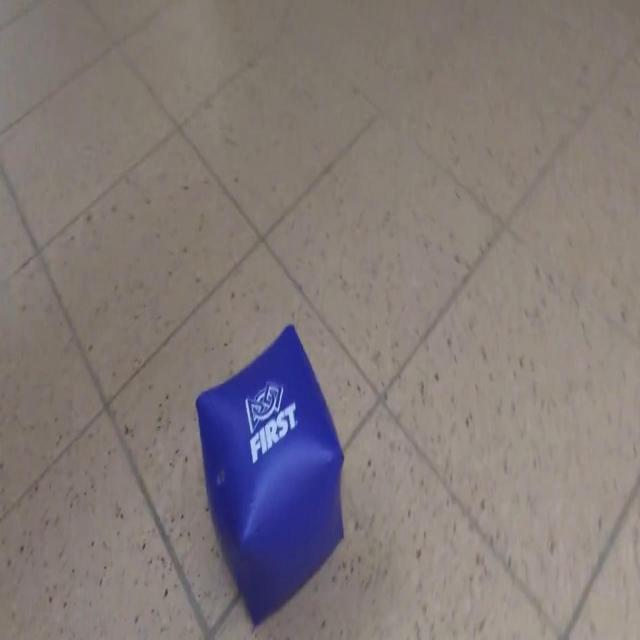frc_cube: (195, 324, 346, 625)
